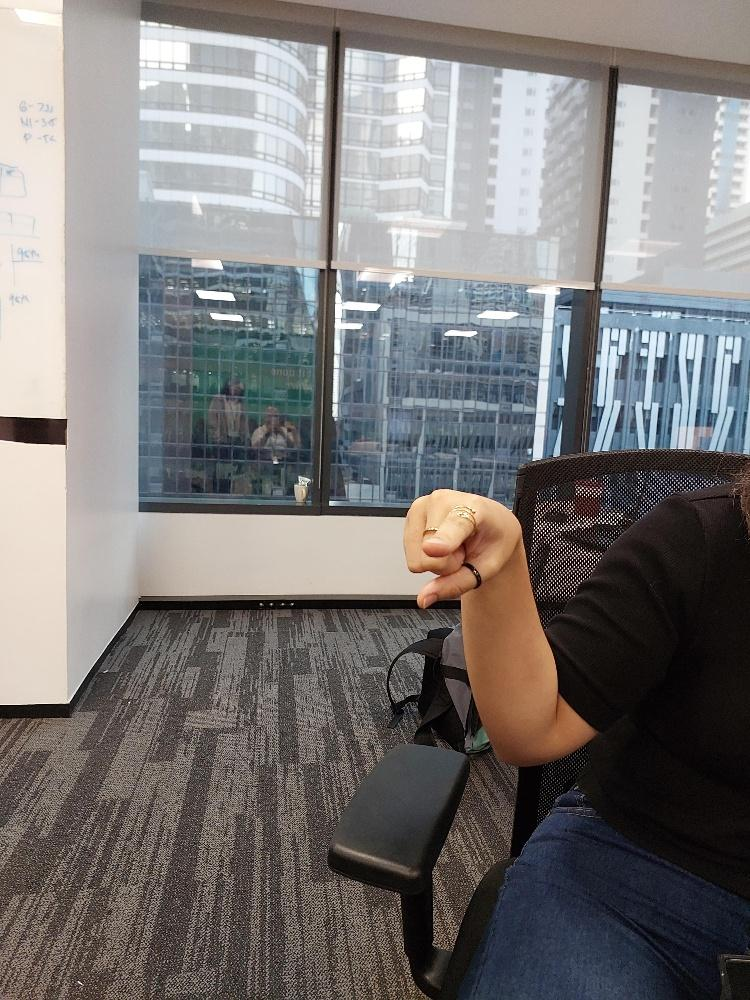z: (398, 484, 521, 613)
